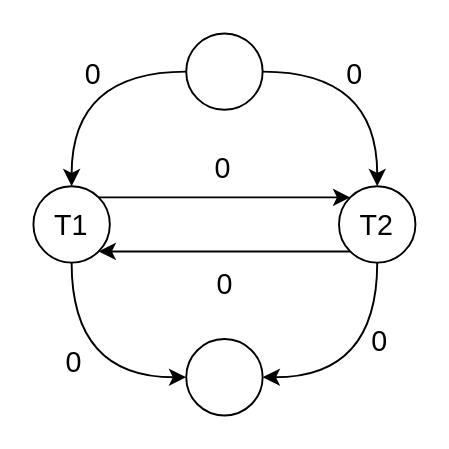
Image size: 449x449. Some labels were removed from this diagram. Each missing label, with the box of its shape:
Tb: (184, 32, 263, 110)
Tf: (184, 337, 263, 415)
